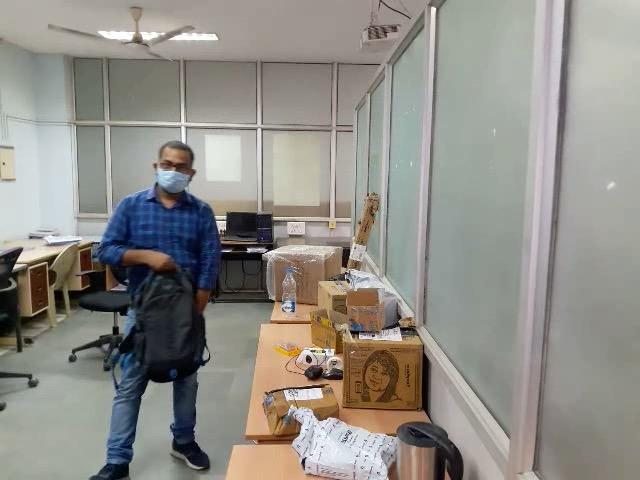shoplifting: (2, 234, 265, 480)
